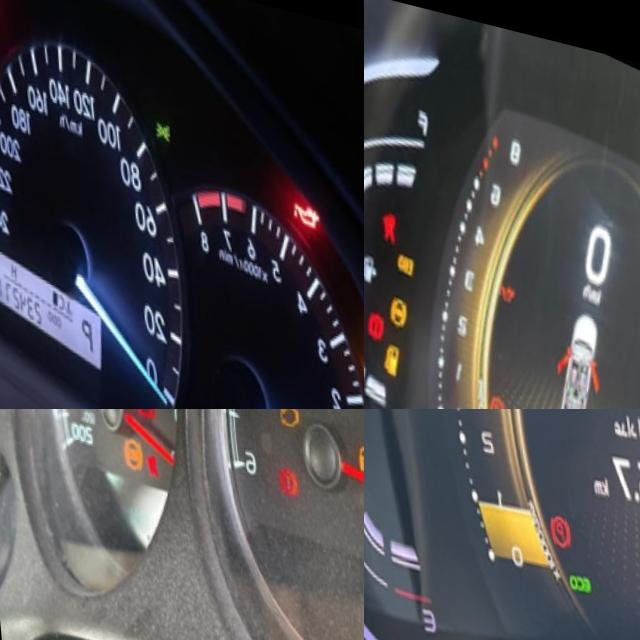Low fuel level: (369, 327, 401, 381)
